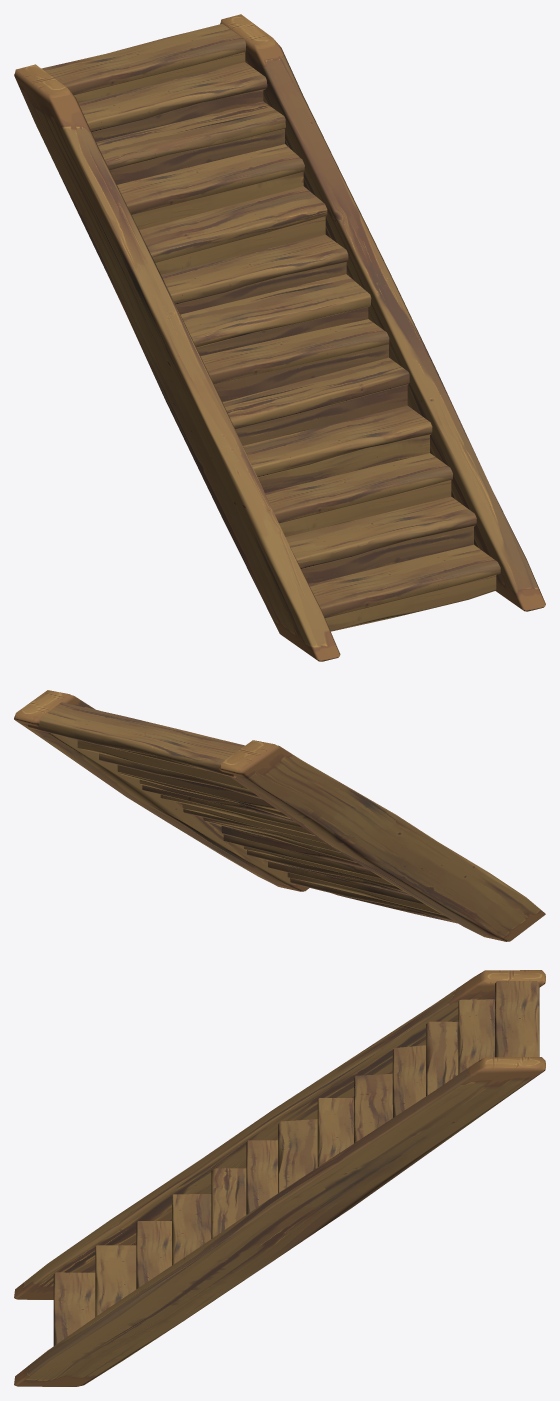
Rendered from SM_MOD_stairs_town_02_02.fbx.
The picture shows the model from 3 angles, top to bottom: view 1: azimuth 30°, elevation 25°; view 2: azimuth 150°, elevation 25°; view 3: azimuth 270°, elevation 25°; orthographic projection. The views are drawn at different scales.
Visible parts, largest first — view 1: SM_MOD_stairs_town_02_02_LOD0; view 2: SM_MOD_stairs_town_02_02_LOD0; view 3: SM_MOD_stairs_town_02_02_LOD0.
Part boxes in pixels (x1=…): SM_MOD_stairs_town_02_02_LOD0: x1=14, y1=14, x2=545, y2=661; SM_MOD_stairs_town_02_02_LOD0: x1=14, y1=690, x2=545, y2=941; SM_MOD_stairs_town_02_02_LOD0: x1=14, y1=970, x2=545, y2=1386.
Size of what is drawn, in the model's own units: 199 by 304 by 457.
